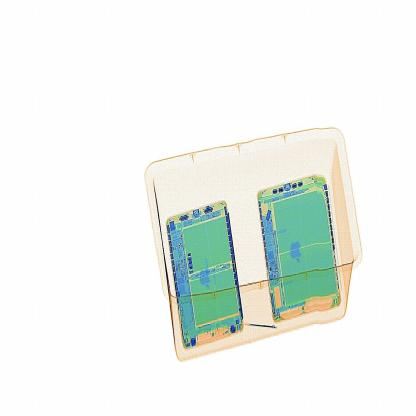wrench: (243, 318, 279, 337)
